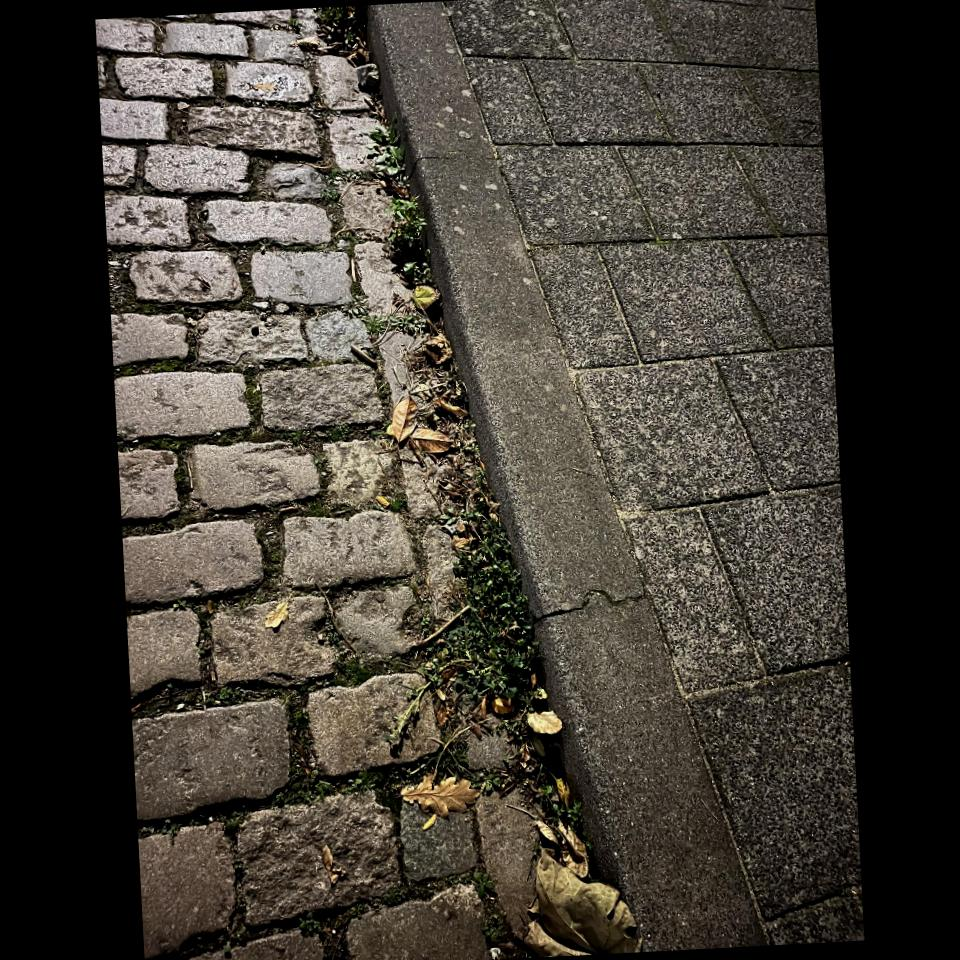weed: (419, 442, 545, 722), (374, 136, 430, 293)
